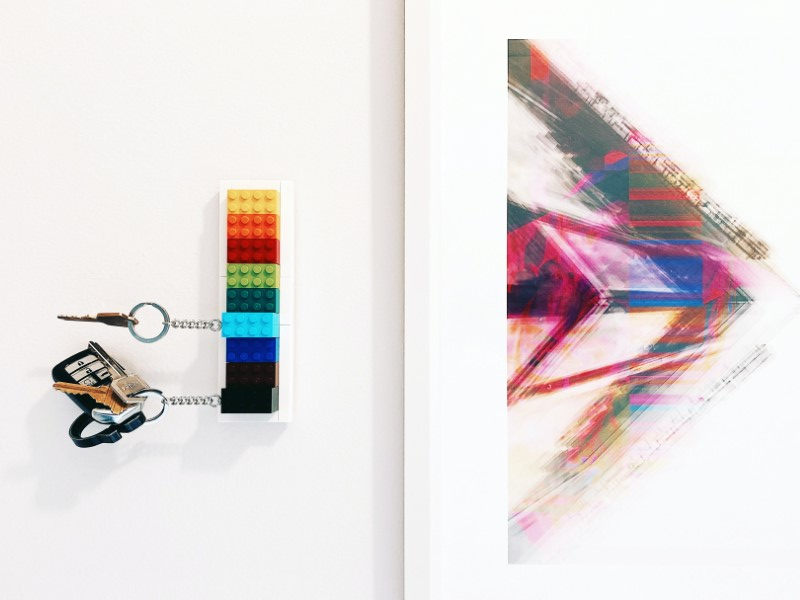carkey: (46, 333, 147, 448)
